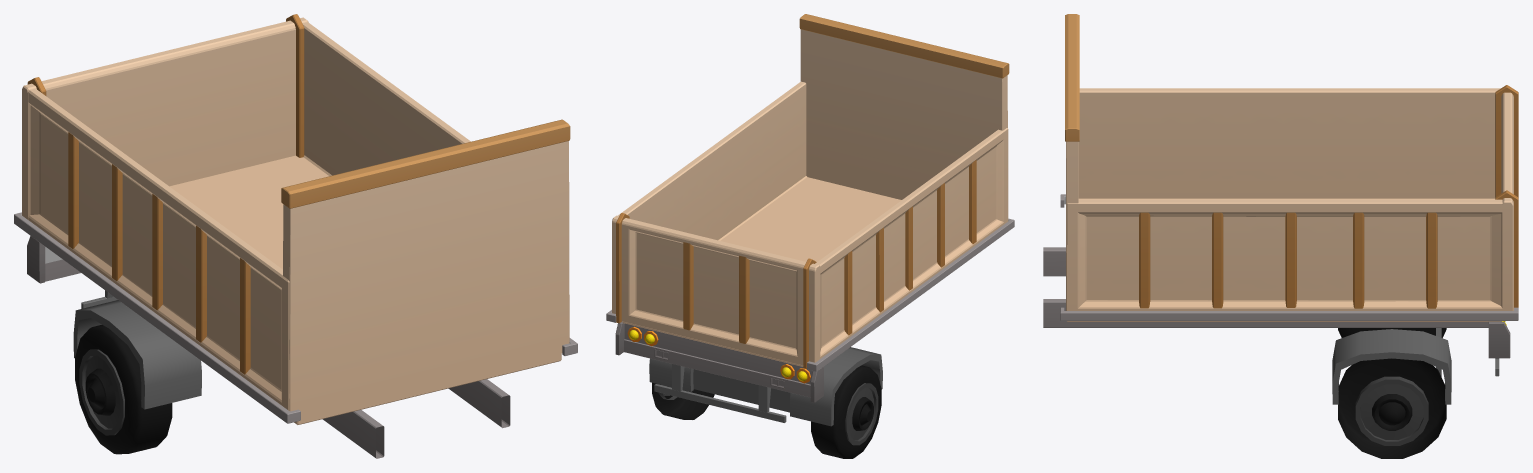
File: Trailer_2_lvl1.fbx
3 renders of one model, left to right at view 1: azimuth 30°, elevation 25°; view 2: azimuth 150°, elevation 25°; view 3: azimuth 270°, elevation 25°, orthographic. The views are drawn at different scales.
Parts seen in each view (by area): view 1: Tr, R3_040; view 2: Tr, R3_040, R3_041; view 3: Tr, R3_041.
Boxes of the visible parts, <box> form: Tr: <box>14,14,577,458</box>; R3_040: <box>75,325,172,454</box>; Tr: <box>606,14,1014,426</box>; R3_040: <box>811,365,881,458</box>; R3_041: <box>652,382,714,419</box>; Tr: <box>1043,14,1518,404</box>; R3_041: <box>1338,358,1446,458</box>.
Size of the model in its own units: 3454 by 4577 by 5840.
